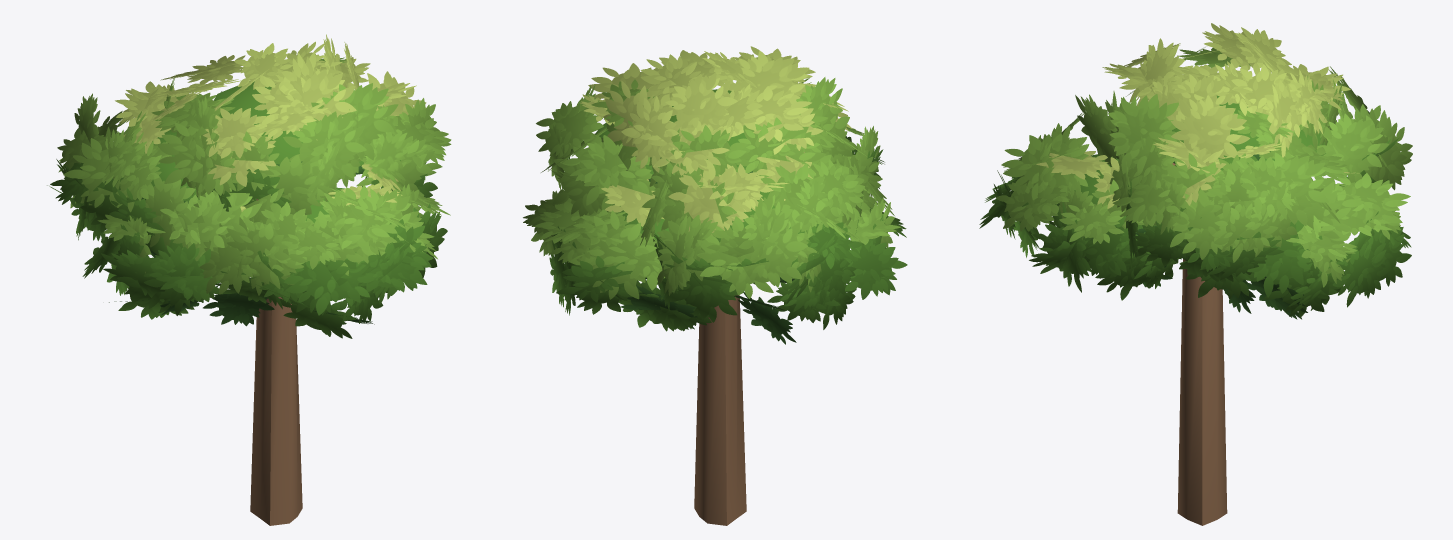
Rendered from tree_round_b.glb.
The picture shows the model from 3 angles, left to right: view 1: azimuth 30°, elevation 25°; view 2: azimuth 150°, elevation 25°; view 3: azimuth 270°, elevation 25°; orthographic projection.
Parts seen in each view (by area): view 1: body; view 2: body; view 3: body.
Boxes of the visible parts, left/top/right/bottom form: body: left=47, top=34, right=451, bottom=525; body: left=523, top=46, right=907, bottom=525; body: left=979, top=23, right=1412, bottom=525.
Bounding box in the file's own units: 3.6 × 4.4 × 3.82.
2 materials, 1 textured.
